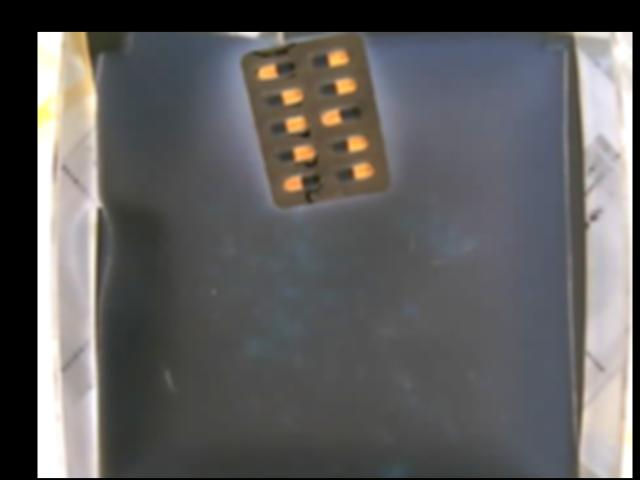Medicine: (243, 32, 388, 215)
